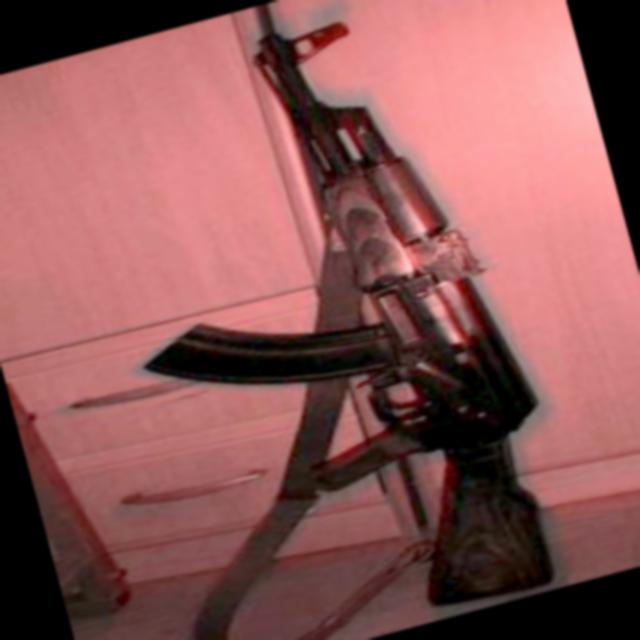ak: (68, 0, 564, 640)
